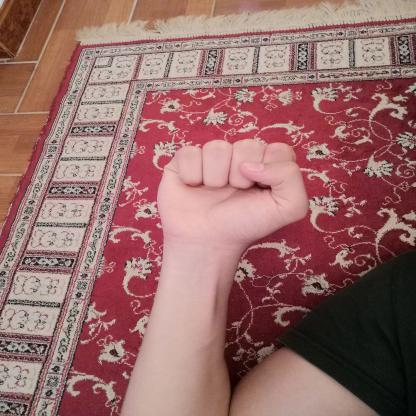SAD: (139, 123, 330, 260)
